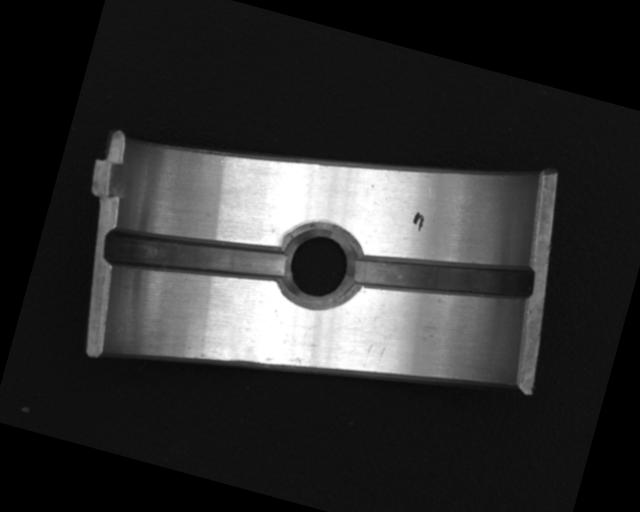blot: (410, 210, 427, 233)
gap: (100, 203, 293, 310), (349, 225, 535, 332)
hole: (275, 220, 367, 315)
